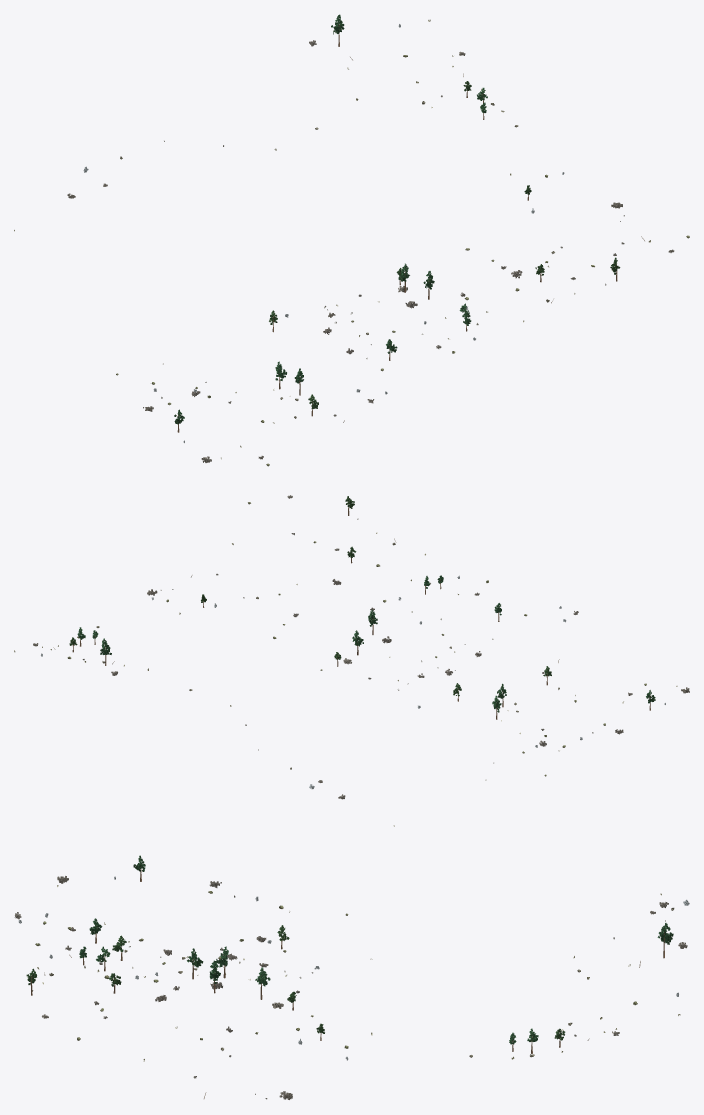
Rendered from coast_land_scatter_c10_16.glb.
The picture shows the model from 3 angles, top to bottom: view 1: azimuth 30°, elevation 25°; view 2: azimuth 150°, elevation 25°; view 3: azimuth 270°, elevation 25°; orthographic projection. The views are drawn at different scales.
Parts seen in each view (by area): view 1: coast_land_scatter_c10_16; view 2: coast_land_scatter_c10_16; view 3: coast_land_scatter_c10_16.
Boxes of the visible parts, x1,y1,x2,y2 form: coast_land_scatter_c10_16: (14,14,689,466); coast_land_scatter_c10_16: (14,495,689,826); coast_land_scatter_c10_16: (14,855,689,1099).
Size of the model in its own units: 259 by 88.2 by 256.
